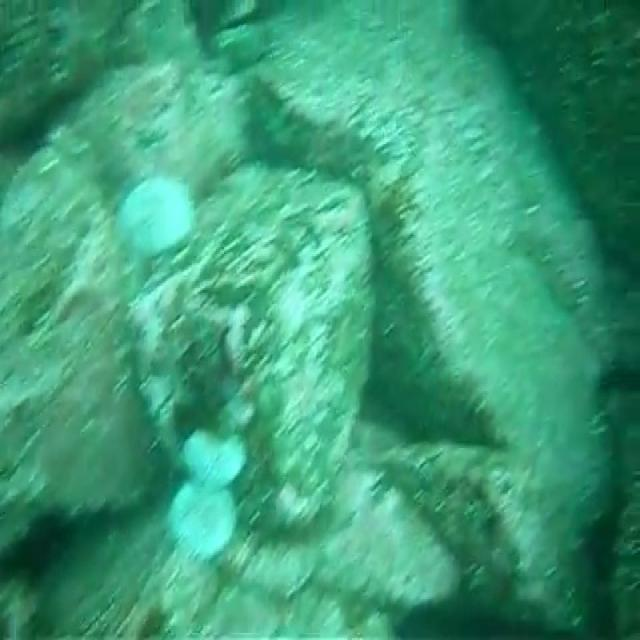Deniz Kestanesi: (114, 158, 205, 252), (156, 469, 242, 560), (186, 410, 253, 495)
